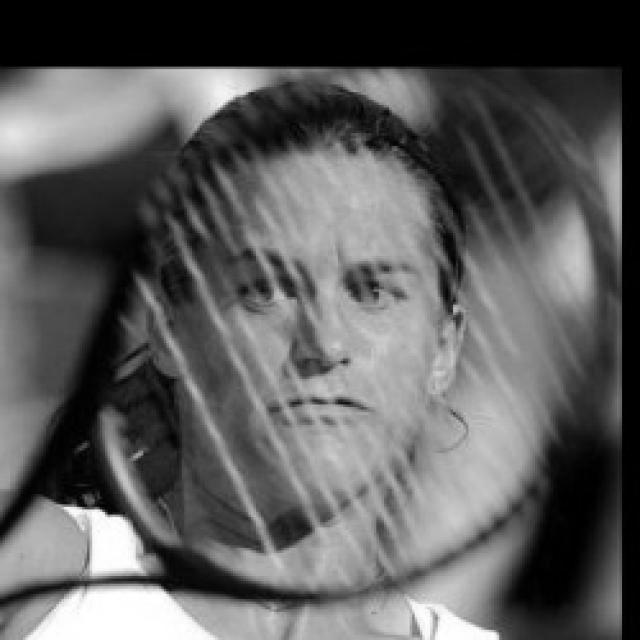real: (161, 76, 461, 552), (228, 264, 424, 316)
